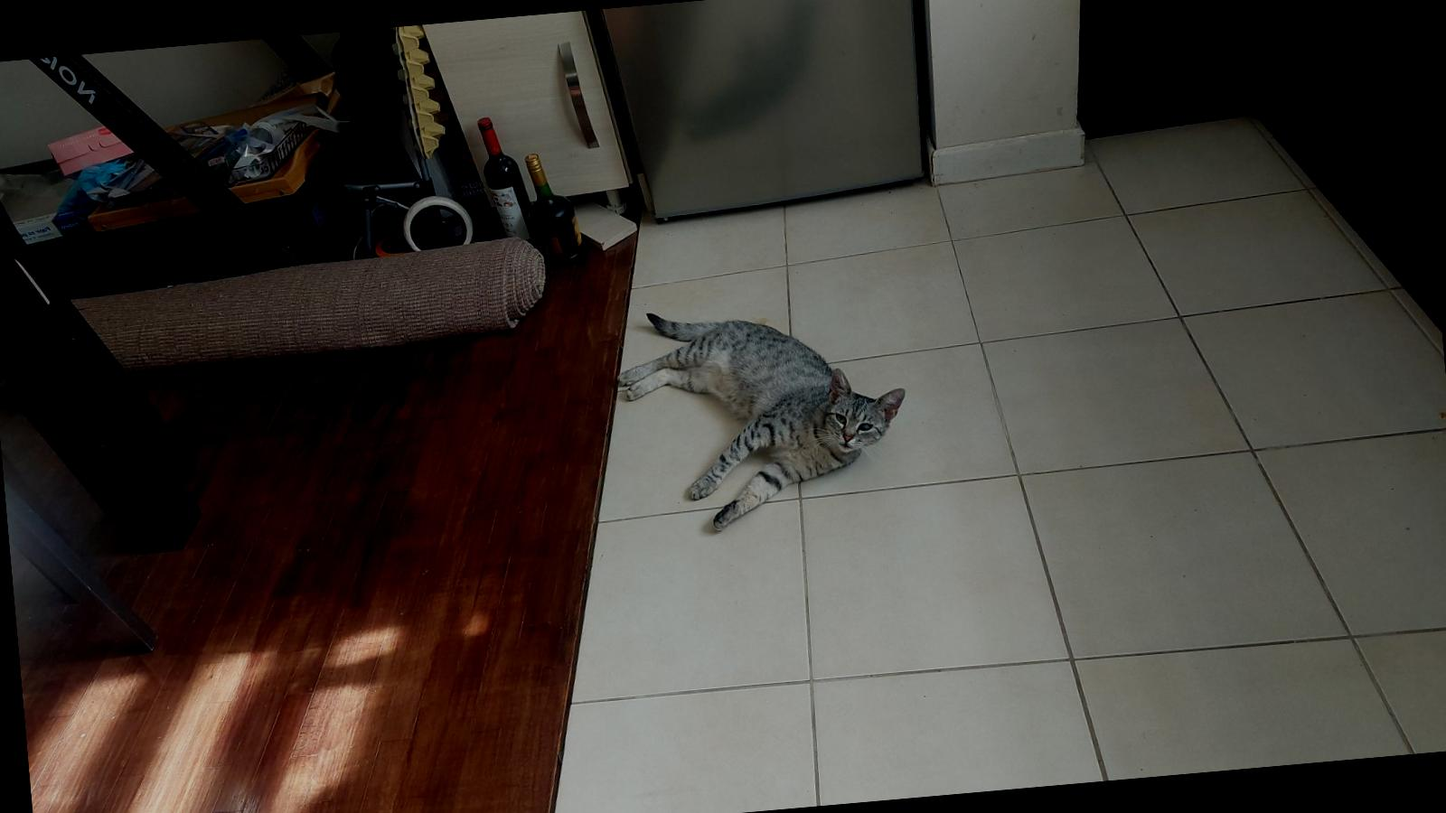macka: (609, 290, 917, 537)
